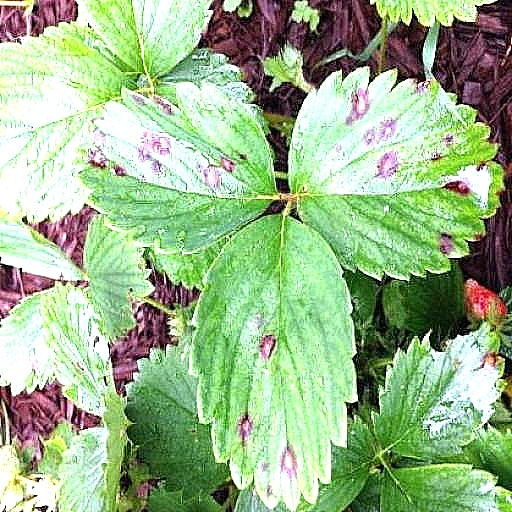Leaf Spot: (189, 0, 359, 299), (287, 230, 508, 447), (75, 255, 280, 436), (371, 49, 508, 192), (0, 115, 57, 224)
Powdery Mildew Fruit: (462, 181, 508, 235)
